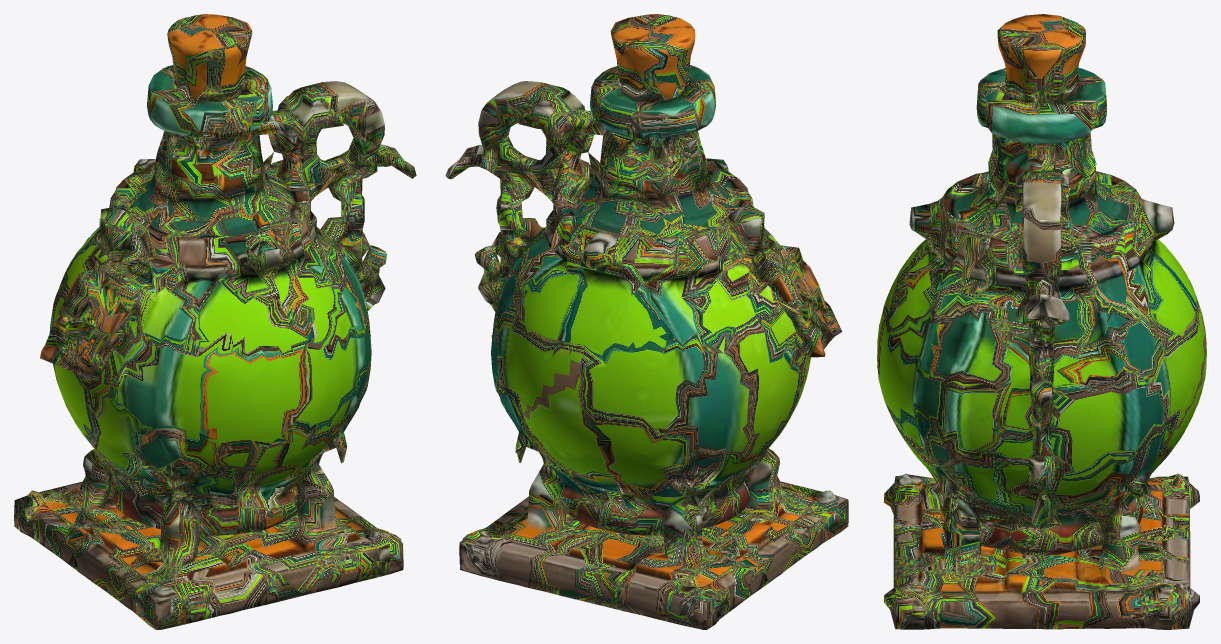
Rendered from elixir-essence.glb.
The picture shows the model from 3 angles, left to right: view 1: azimuth 30°, elevation 25°; view 2: azimuth 150°, elevation 25°; view 3: azimuth 270°, elevation 25°; orthographic projection. The views are drawn at different scales.
Size of the model in its own units: 1.42 by 1.9 by 1.06.
1 material, 1 textured.
